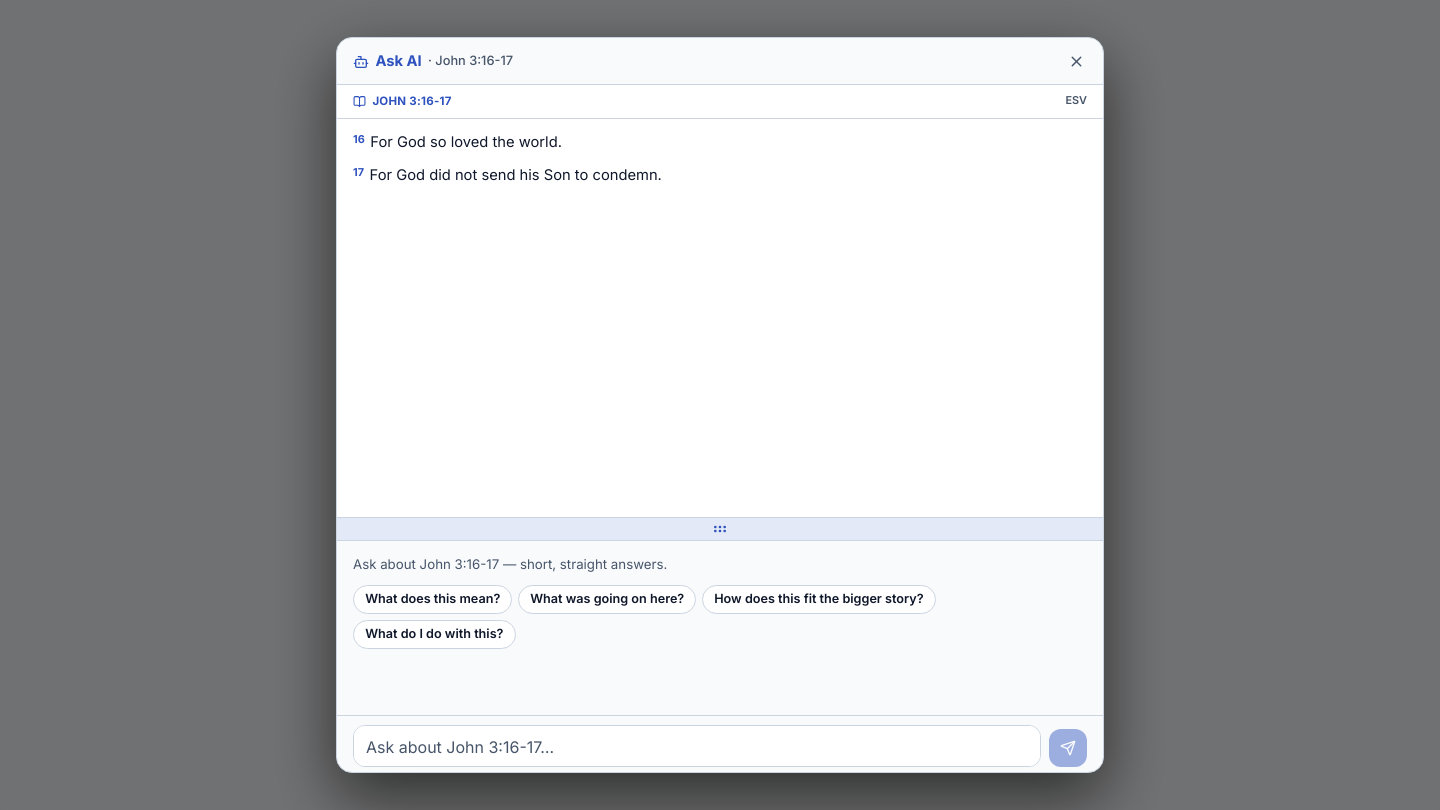
Test: AskAiPanel › the split between passage and conversation › stops moving on its own once the reader resizes it
Press Arrowup
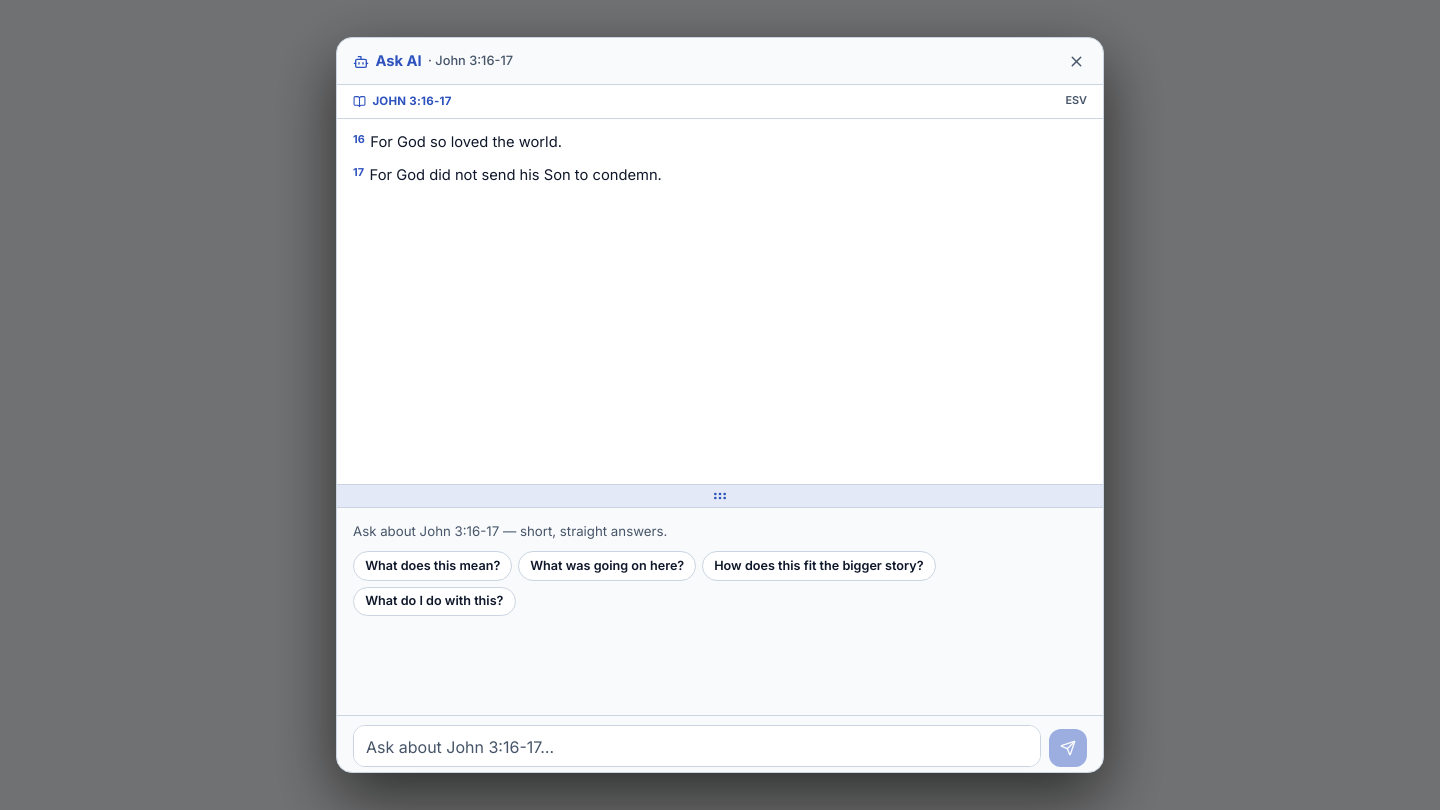
Type "Why?" into the text box named "ask a question".
click(697, 746); type("Why?")  # box [353,725,1041,767]
Then press Enter
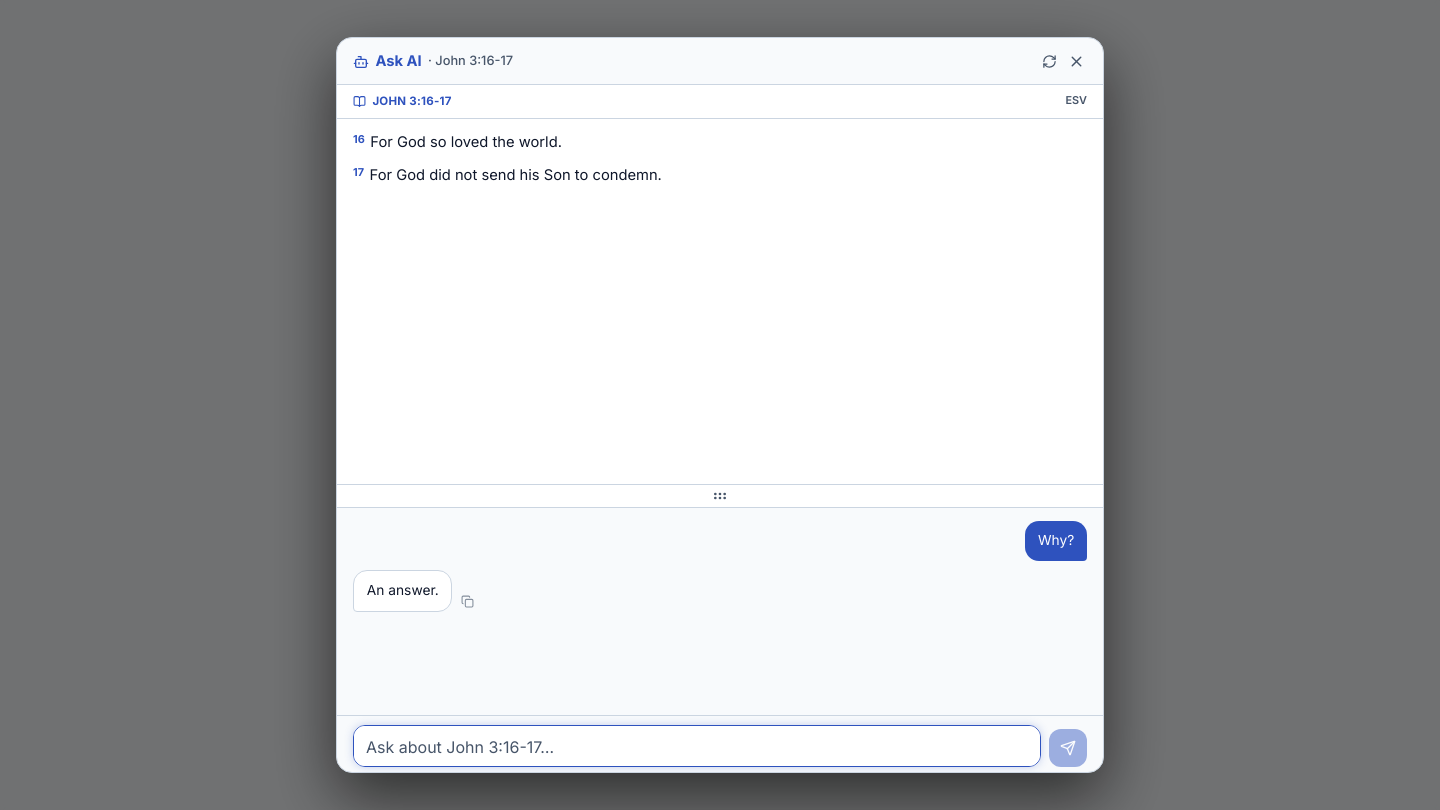
Check: the text "An answer." is shown, box [367,580,439,602]
